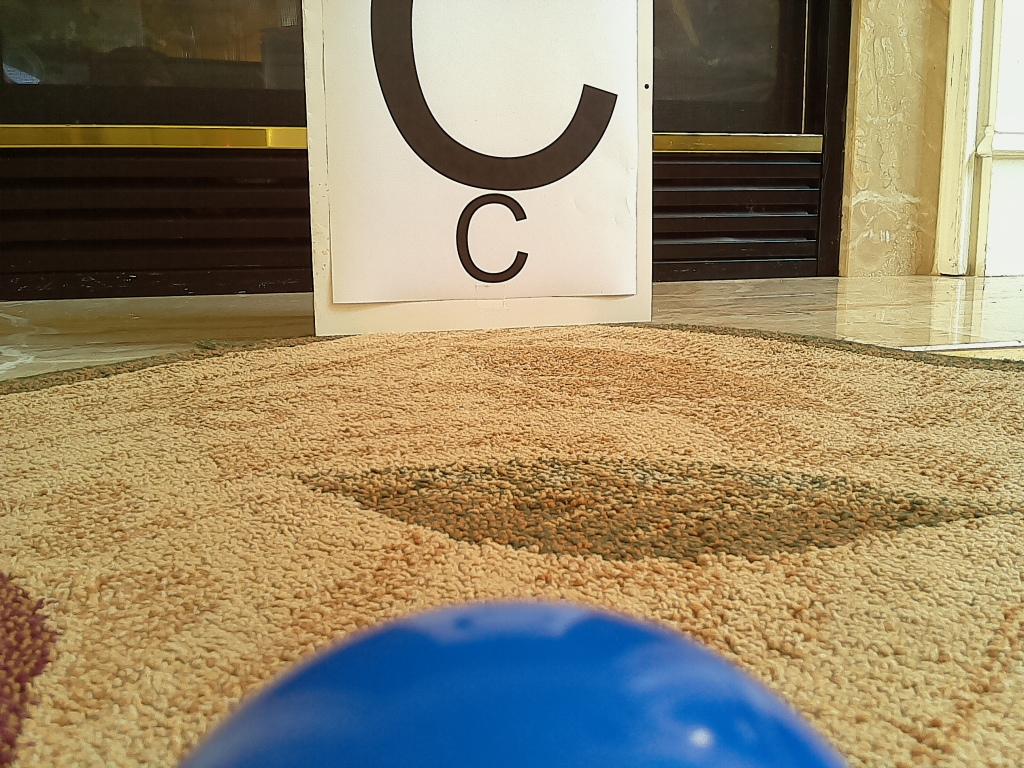letter: (455, 193, 527, 282)
